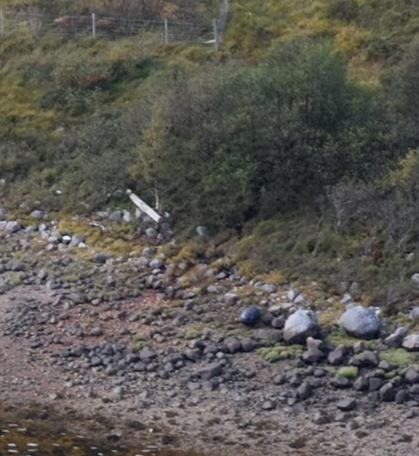straight_bar: (120, 181, 166, 225)
white_in_green: (225, 290, 277, 338)
